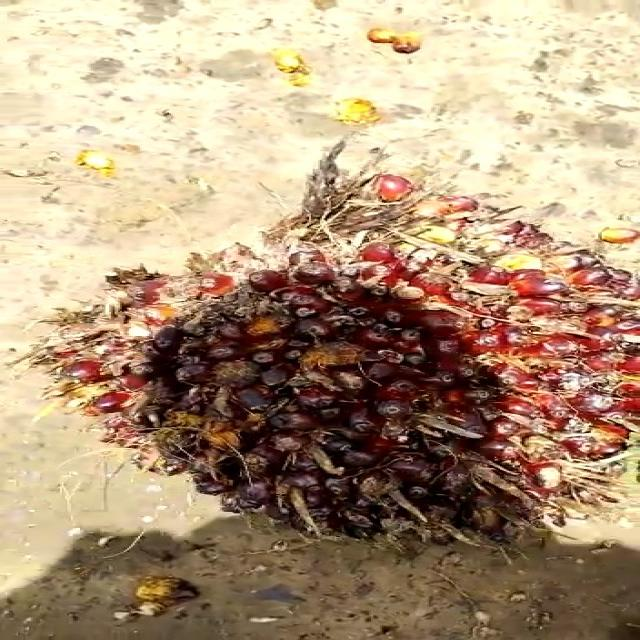palm oil: (41, 170, 640, 552)
